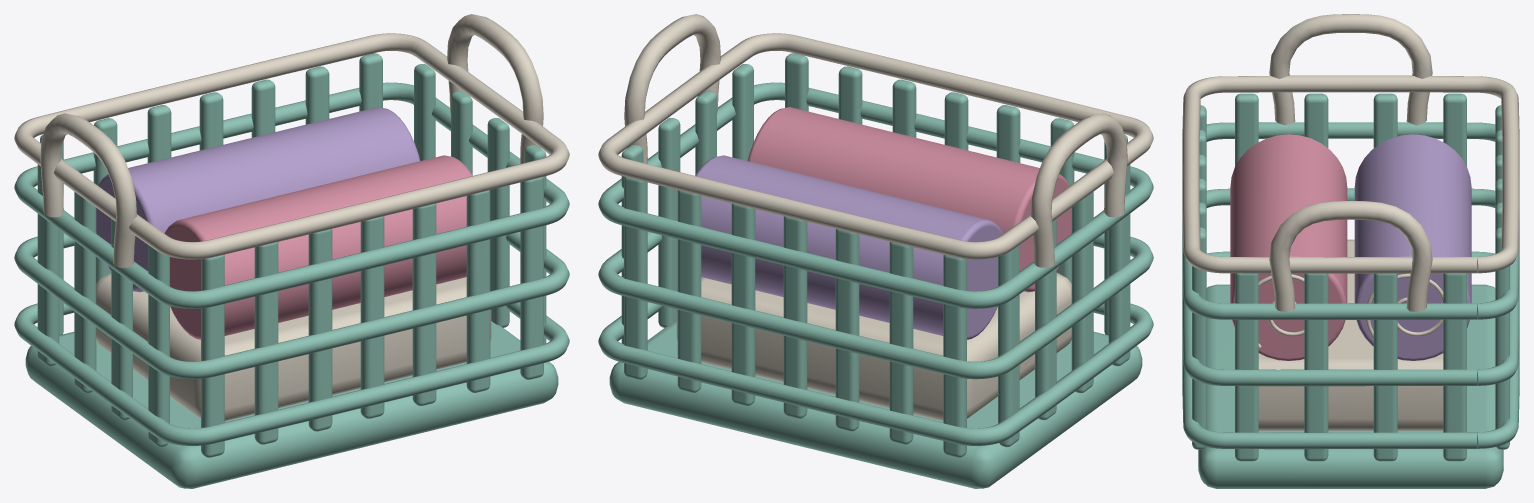
File: lm_towel_basket.glb
3 renders of one model, left to right at view 1: azimuth 30°, elevation 25°; view 2: azimuth 150°, elevation 25°; view 3: azimuth 270°, elevation 25°, orthographic. The views are drawn at different scales.
Visible parts, largest first — view 1: prop; view 2: prop; view 3: prop.
Boxes of the visible parts, x1,y1,x2,y2 form: prop: (14,14,569,488); prop: (598,14,1153,488); prop: (1182,14,1519,488).
Size of the model in its own units: 0.253 by 0.1805 by 0.1847.
